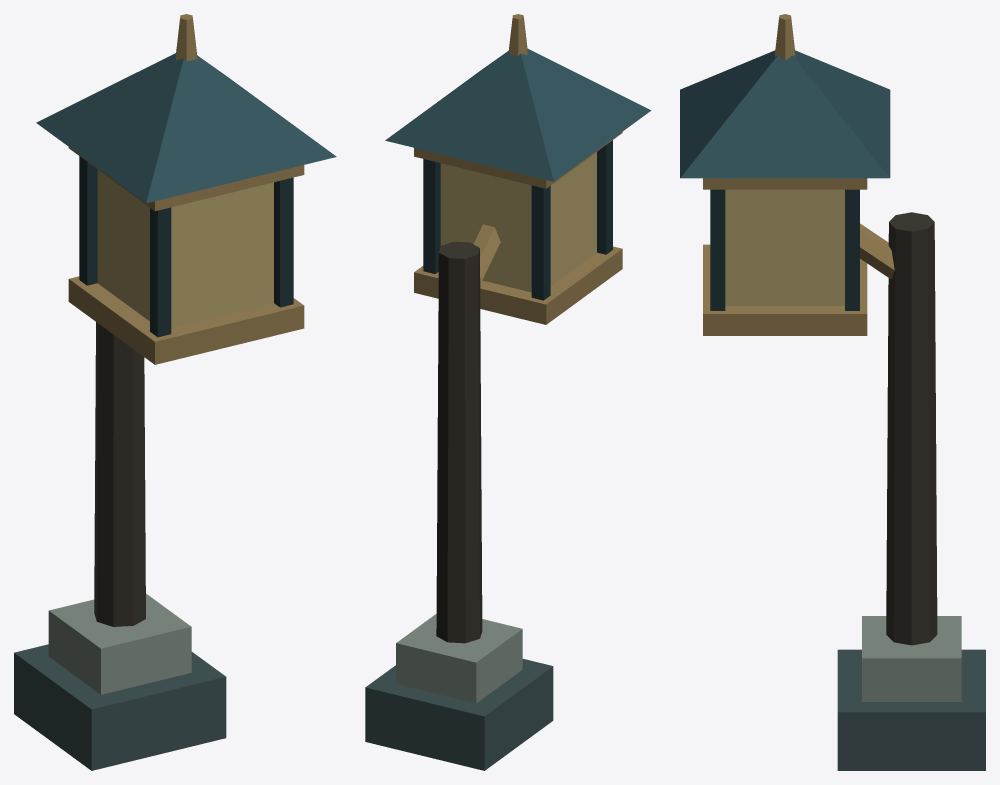
The model's file is lantern.glb.
The picture shows the model from 3 angles, left to right: view 1: azimuth 30°, elevation 25°; view 2: azimuth 150°, elevation 25°; view 3: azimuth 270°, elevation 25°; orthographic projection. The views are drawn at different scales.
Parts seen in each view (by area): view 1: lantern; view 2: lantern; view 3: lantern.
Part boxes in pixels (box(x1,y1,x2,y2)): lantern: box(14, 14, 336, 770); lantern: box(365, 14, 651, 770); lantern: box(680, 14, 985, 770).
Size of the model in its own units: 0.78 by 2.96 by 1.13.
